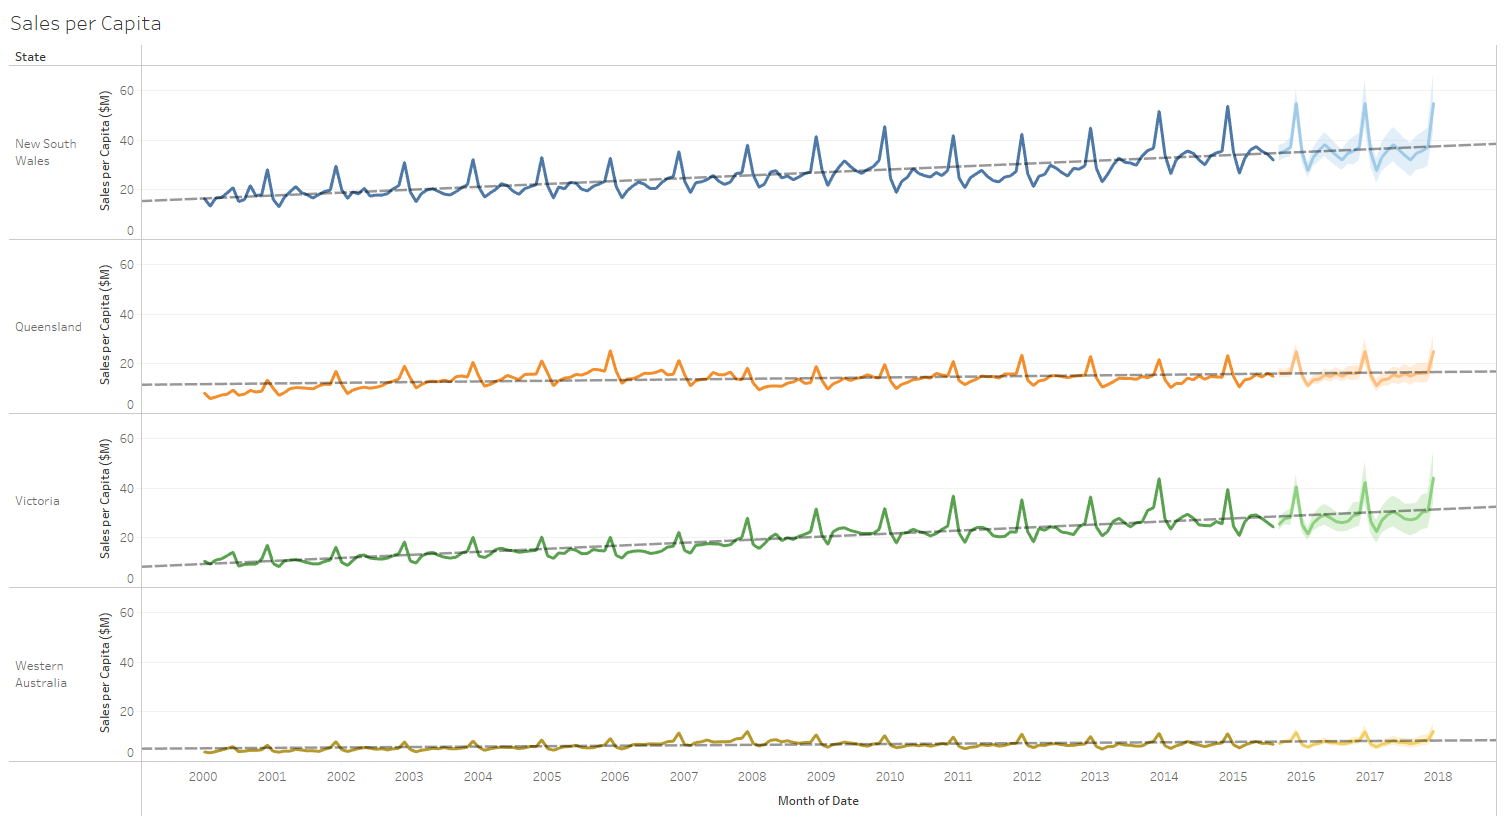

The page's visual inventory and layout, read from the dashboard file:
{"tool":"tableau","page":{"name":"Sales D","canvas":[1000,1000],"units":"permille","ordinal":2},"visuals":[{"type":"text","box":[8,10,984,77.5]},{"type":"worksheet","title":"Sales per Capita w/ Forecasts","mark":"Line","rows":["Pivot Field Names - Split 1","Calculation_964051800778379265"],"cols":["F1"],"box":[8,87.5,984,902.5]}]}

Visuals, with their boxes on the dashboard's canvas, which has no fixed pixel size, in thousandths of its width and height (x1, y1, x2, y2). These are canvas units, not pixel positions in the 1509x827 screenshot, which may show the page scaled, cropped or inside an application window:
text: <region>8, 10, 992, 88</region>
"Sales per Capita w/ Forecasts" worksheet (Line marks): <region>8, 88, 992, 990</region>
